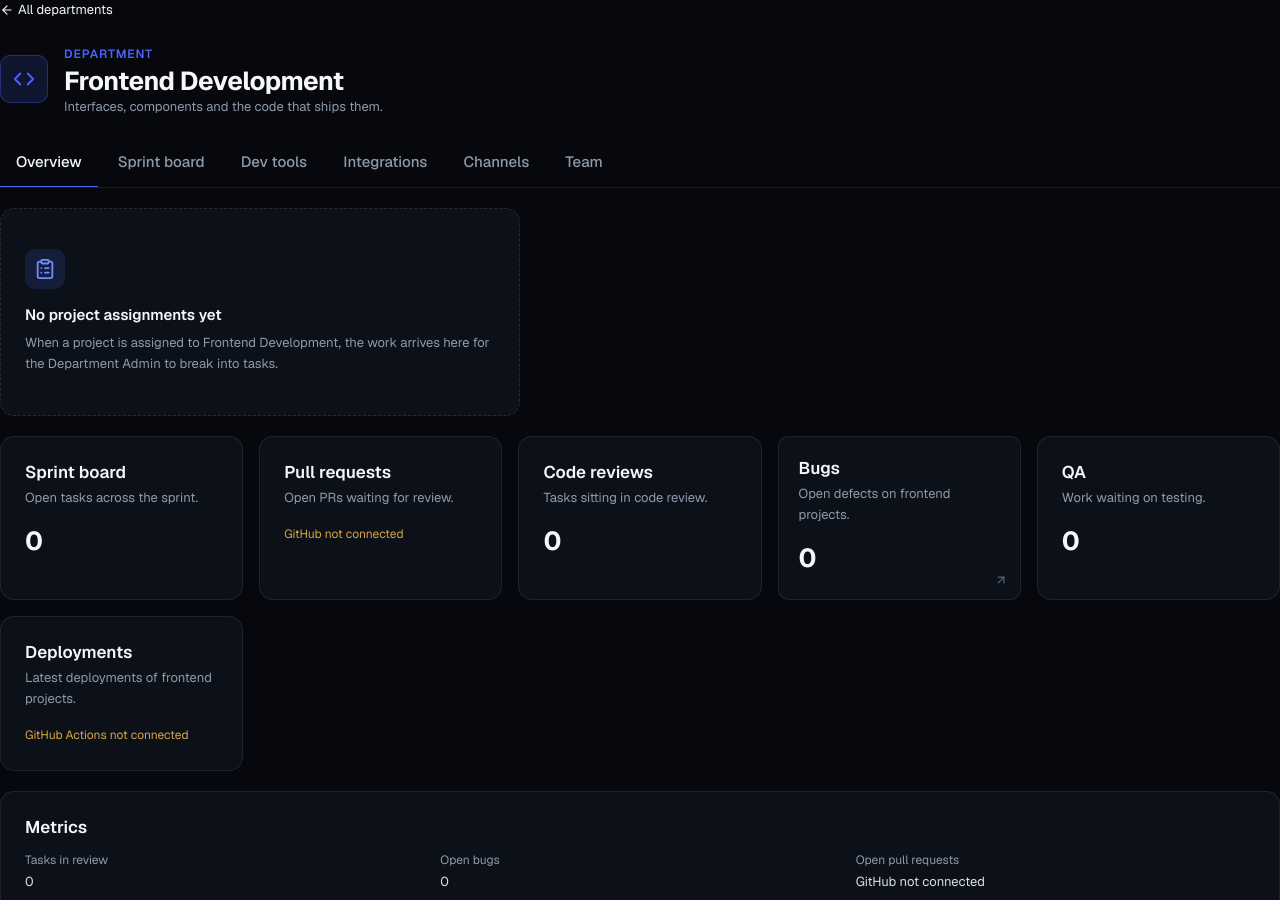
it: Department environment › Team › hides every management control from anyone but a Main Admin
Click the tab "Team". click: (584, 163)
box: [549,138,619,188]
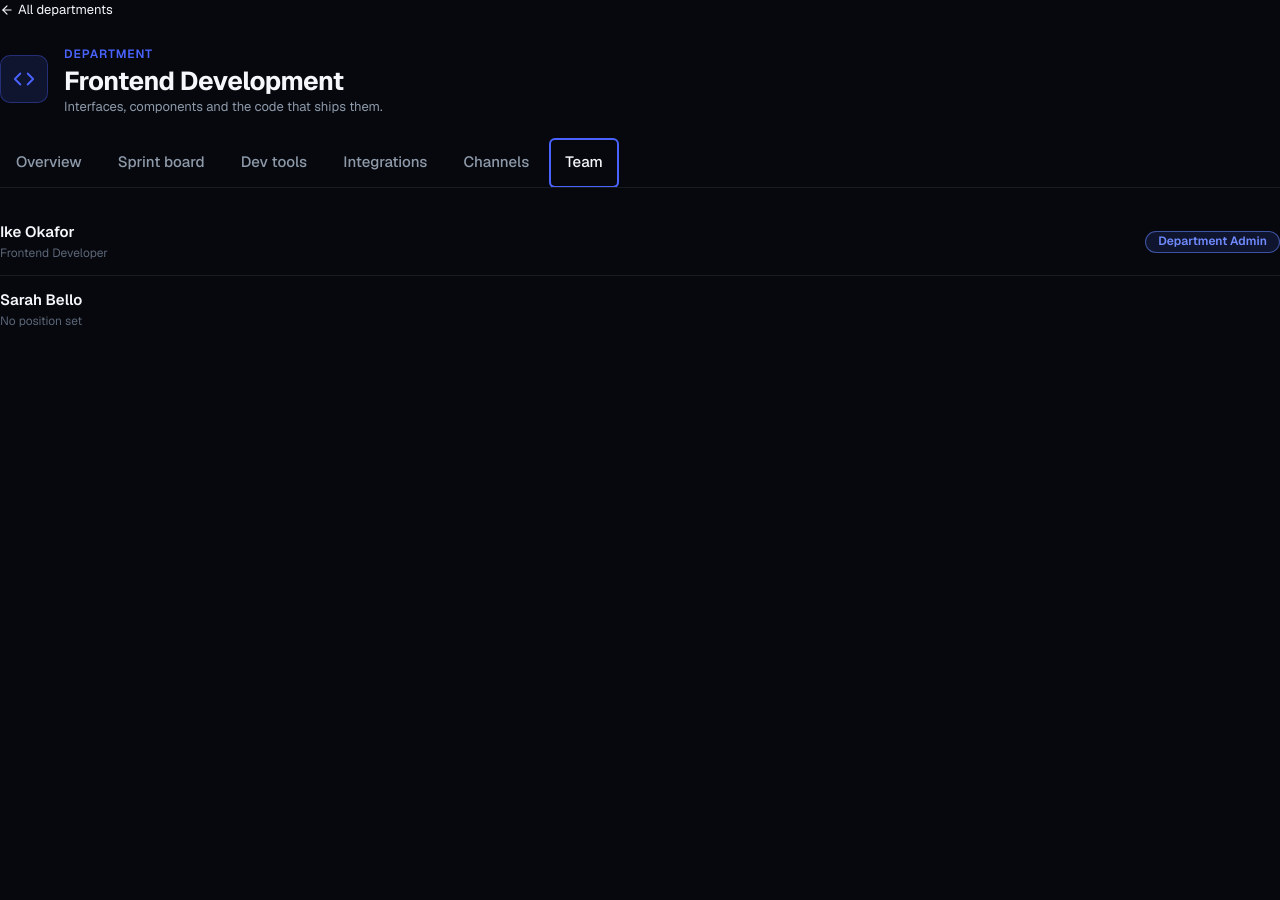
Check: the text "Ike Okafor" is shown, box [0,222,75,241]
